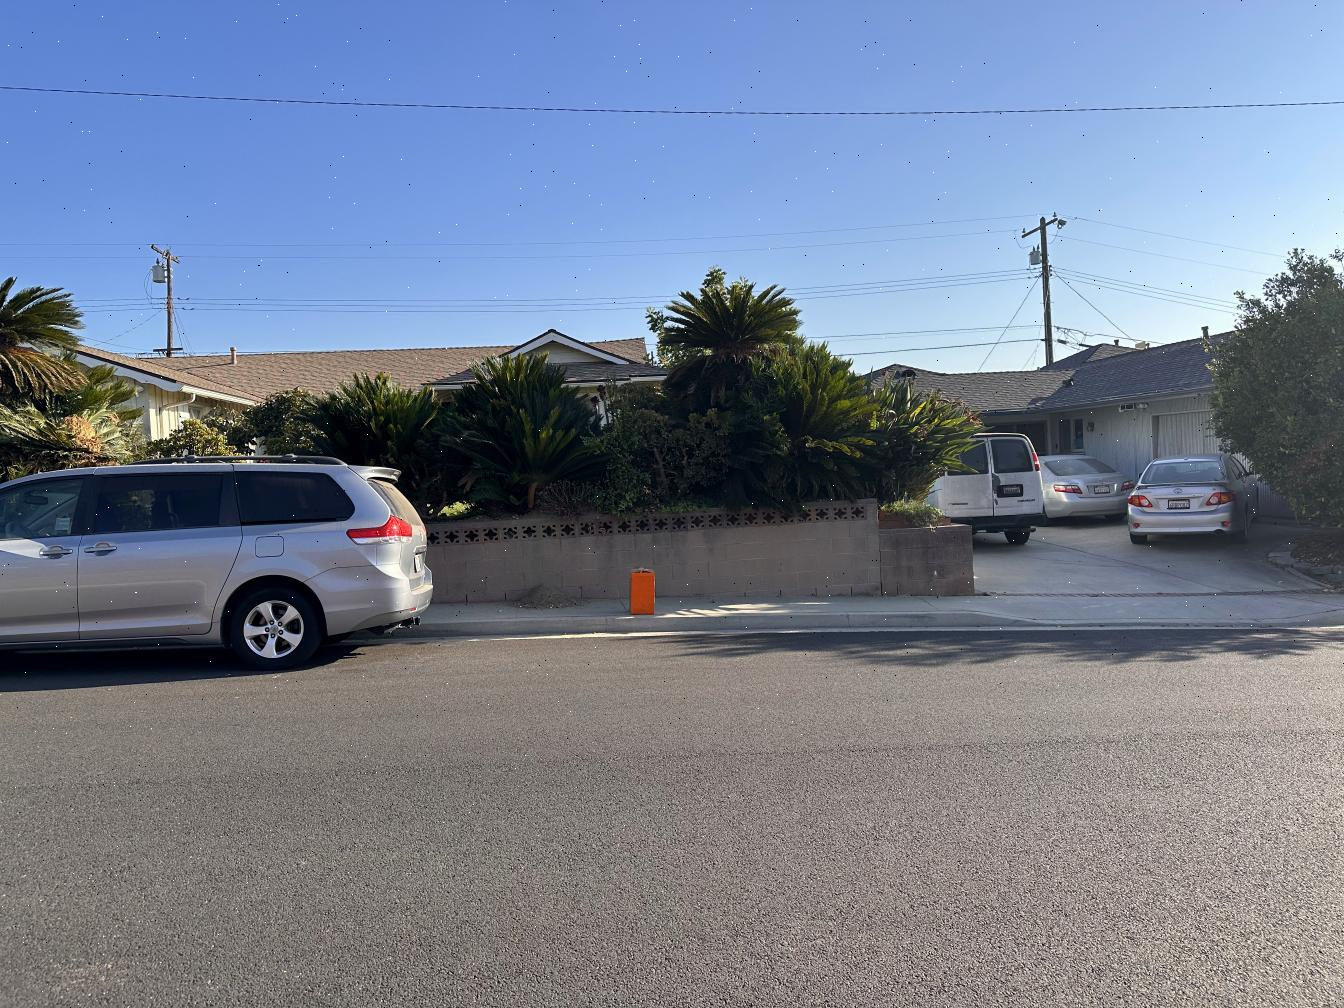curbs-laRr: (659, 613, 986, 630), (424, 618, 635, 635)
orange box: (631, 569, 655, 615)
